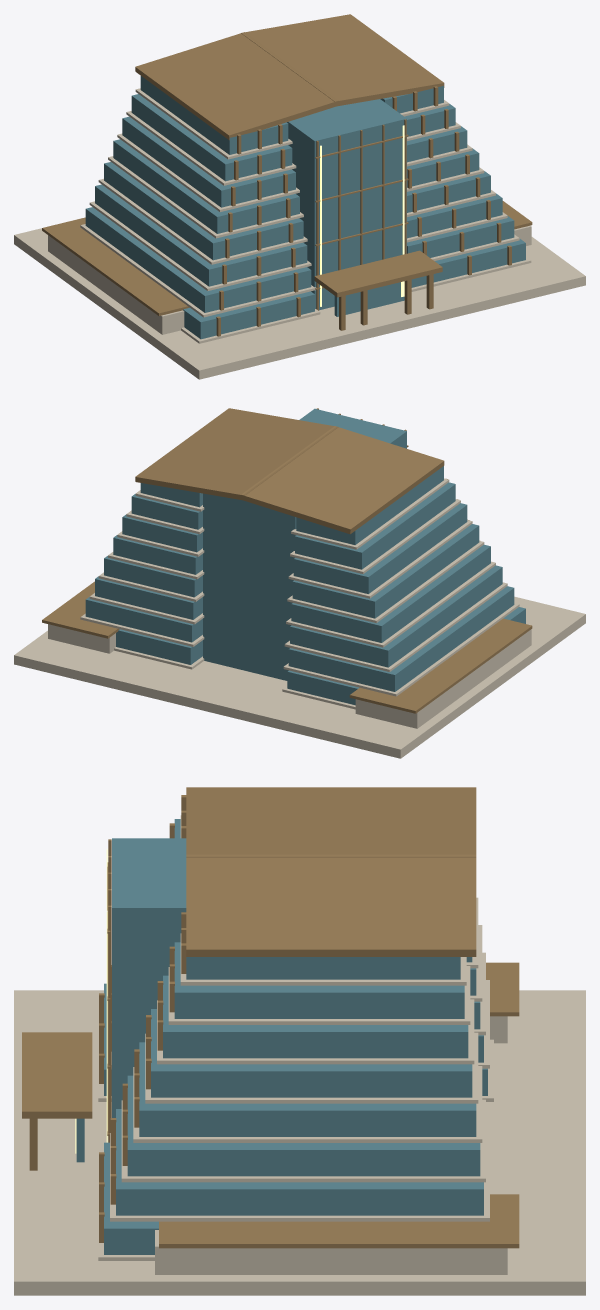
The model's file is Atlantis_VentureHall_v1.glb.
3 views of the same model, one above another, from view 1: azimuth 30°, elevation 25°; view 2: azimuth 150°, elevation 25°; view 3: azimuth 270°, elevation 25° (orthographic). The views are drawn at different scales.
Parts seen in each view (by area): view 1: VentureHall_atrium_glazing, VentureHall_brushed_bronze, VentureHall_pale_limestone, VentureHall_warm_entry; view 2: VentureHall_atrium_glazing, VentureHall_pale_limestone, VentureHall_brushed_bronze; view 3: VentureHall_atrium_glazing, VentureHall_pale_limestone, VentureHall_brushed_bronze, VentureHall_warm_entry.
Boxes of the visible parts, x1,y1,x2,y2 form: VentureHall_atrium_glazing: [85, 76, 525, 339]; VentureHall_brushed_bronze: [42, 14, 532, 336]; VentureHall_pale_limestone: [14, 88, 585, 379]; VentureHall_warm_entry: [320, 125, 404, 306]; VentureHall_atrium_glazing: [85, 408, 525, 705]; VentureHall_pale_limestone: [14, 478, 585, 758]; VentureHall_brushed_bronze: [42, 408, 532, 713]; VentureHall_atrium_glazing: [76, 819, 487, 1254]; VentureHall_pale_limestone: [14, 815, 585, 1295]; VentureHall_brushed_bronze: [22, 787, 519, 1248]; VentureHall_warm_entry: [75, 848, 107, 1153].
Bounding box in the file's own units: 88 × 41.42 × 73.
